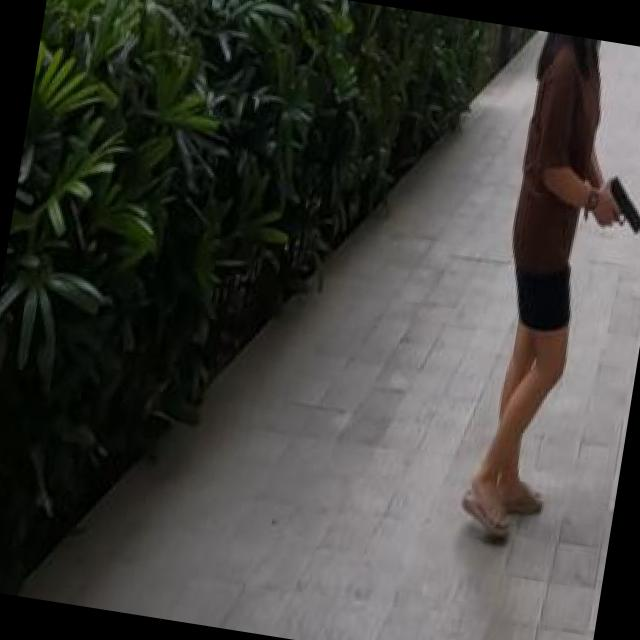Guns: (587, 170, 640, 243)
